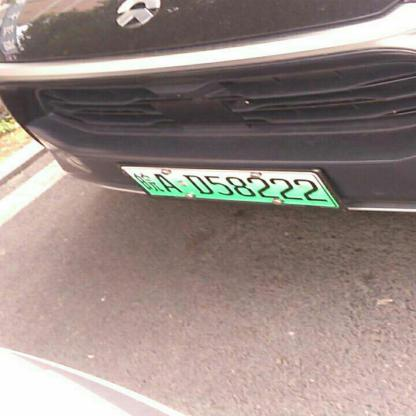lp: (121, 166, 338, 206)
